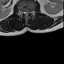CCS_normal: (25, 9, 27, 17)
LFS_normal: (30, 9, 31, 15)
LLS_normal: (27, 9, 29, 16)
RFS_normal: (21, 9, 24, 15)
RLS_normal: (23, 9, 25, 15)
